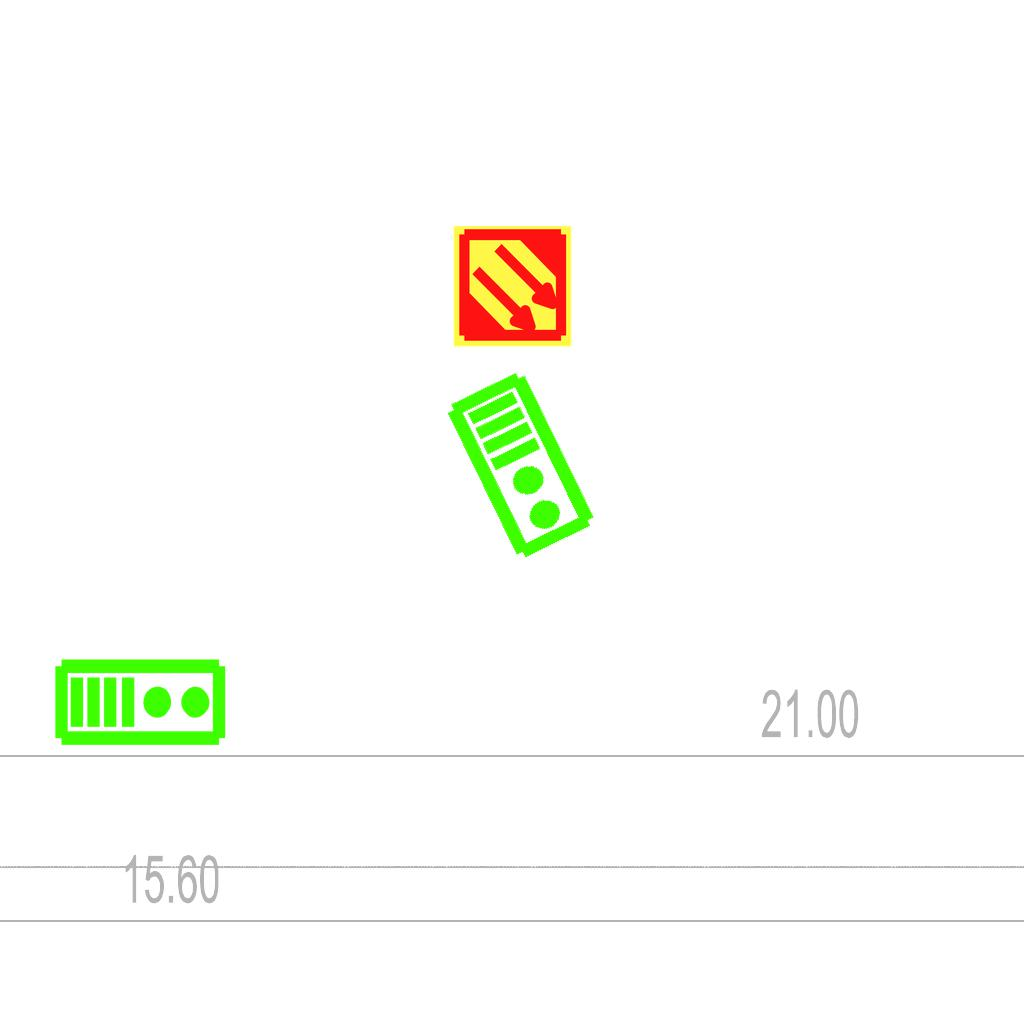ASR_Ansaugrauchmelder: (450, 224, 575, 349)
Gegensprechanlage_mit_Video: (441, 365, 604, 565), (53, 653, 229, 748)
